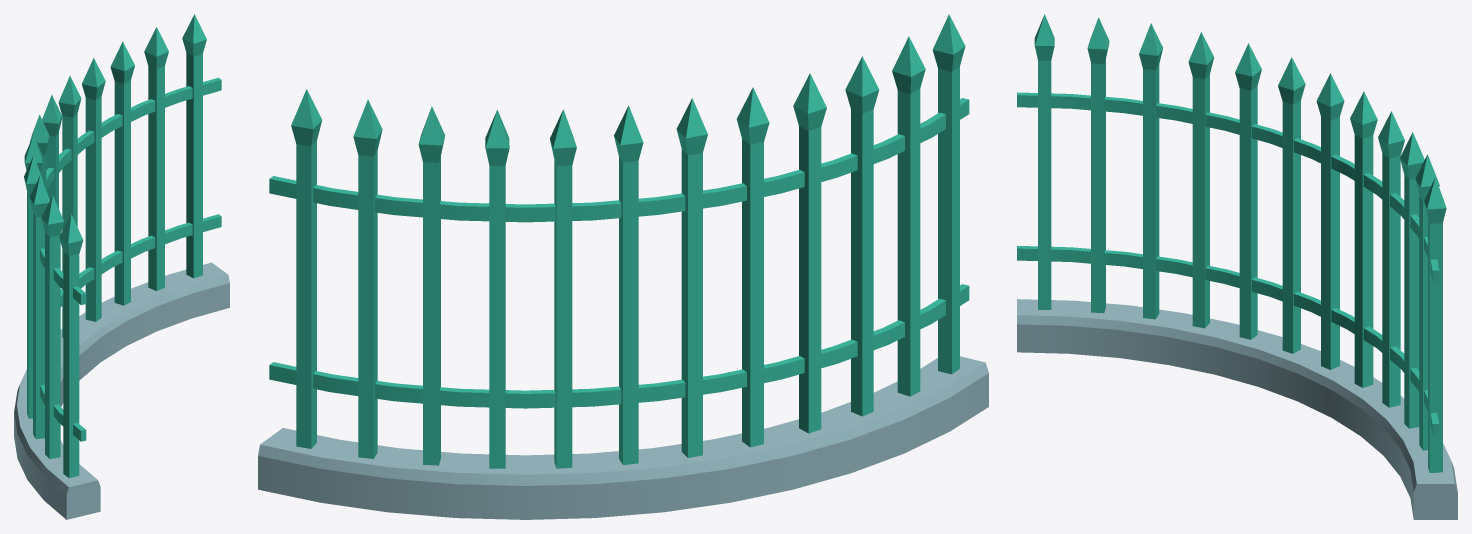
Rendered from ironFenceBorderCurve.obj.
The picture shows the model from 3 angles, left to right: view 1: azimuth 30°, elevation 25°; view 2: azimuth 150°, elevation 25°; view 3: azimuth 270°, elevation 25°; orthographic projection. The views are drawn at different scales.
Parts seen in each view (by area): view 1: ironFenceBorderCurve; view 2: ironFenceBorderCurve; view 3: ironFenceBorderCurve.
Part boxes in pixels (x1,y1,x2,y2): ironFenceBorderCurve: [14, 14, 229, 519]; ironFenceBorderCurve: [258, 14, 988, 519]; ironFenceBorderCurve: [1017, 14, 1457, 519].
Size of the model in its own units: 1 by 0.8239 by 1.
